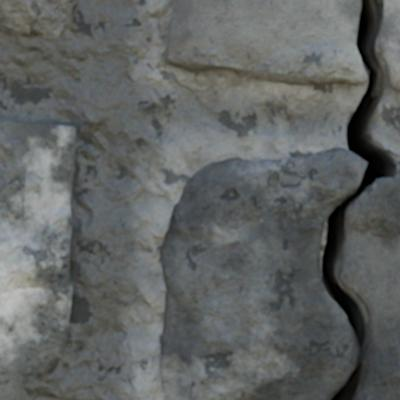brick: (0, 119, 77, 399), (0, 0, 74, 39)
broken_brick: (159, 147, 365, 399), (164, 0, 366, 85), (342, 173, 399, 399), (382, 0, 399, 90)
crack: (308, 0, 399, 399)
